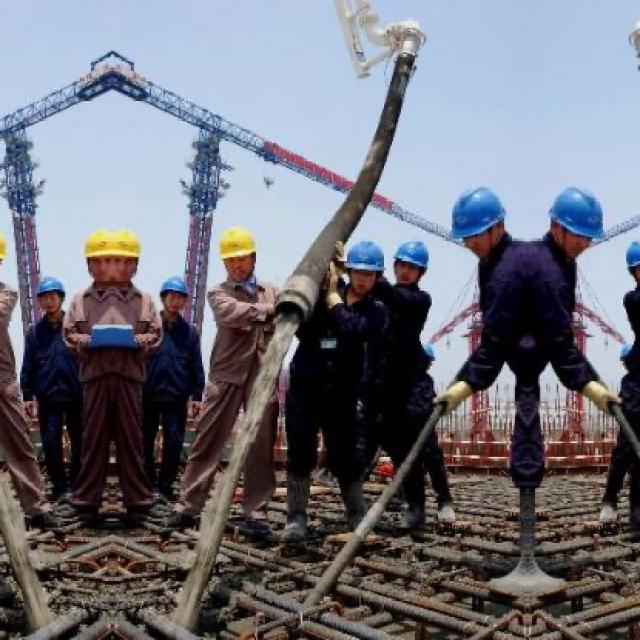helmet: (541, 183, 608, 262), (446, 183, 512, 262), (216, 223, 259, 283), (344, 237, 384, 298), (112, 228, 142, 294), (80, 228, 110, 294), (395, 237, 432, 286), (157, 268, 190, 322), (32, 268, 65, 322), (621, 237, 640, 288)
